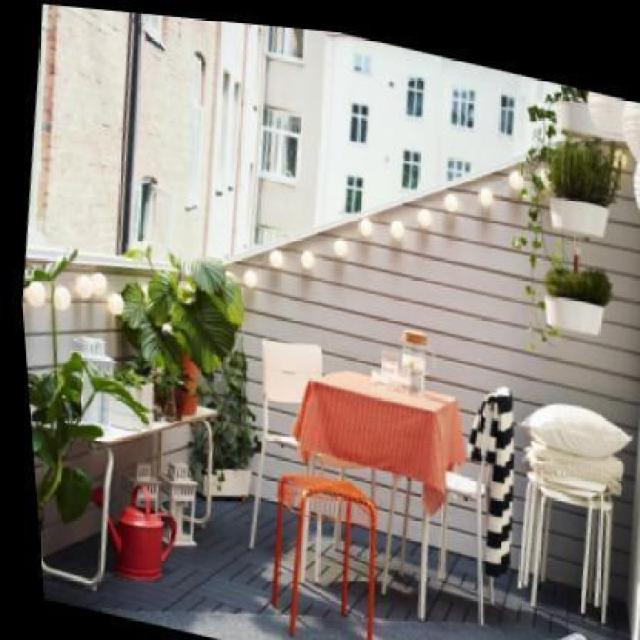tables: (289, 368, 465, 620), (34, 403, 218, 589)
